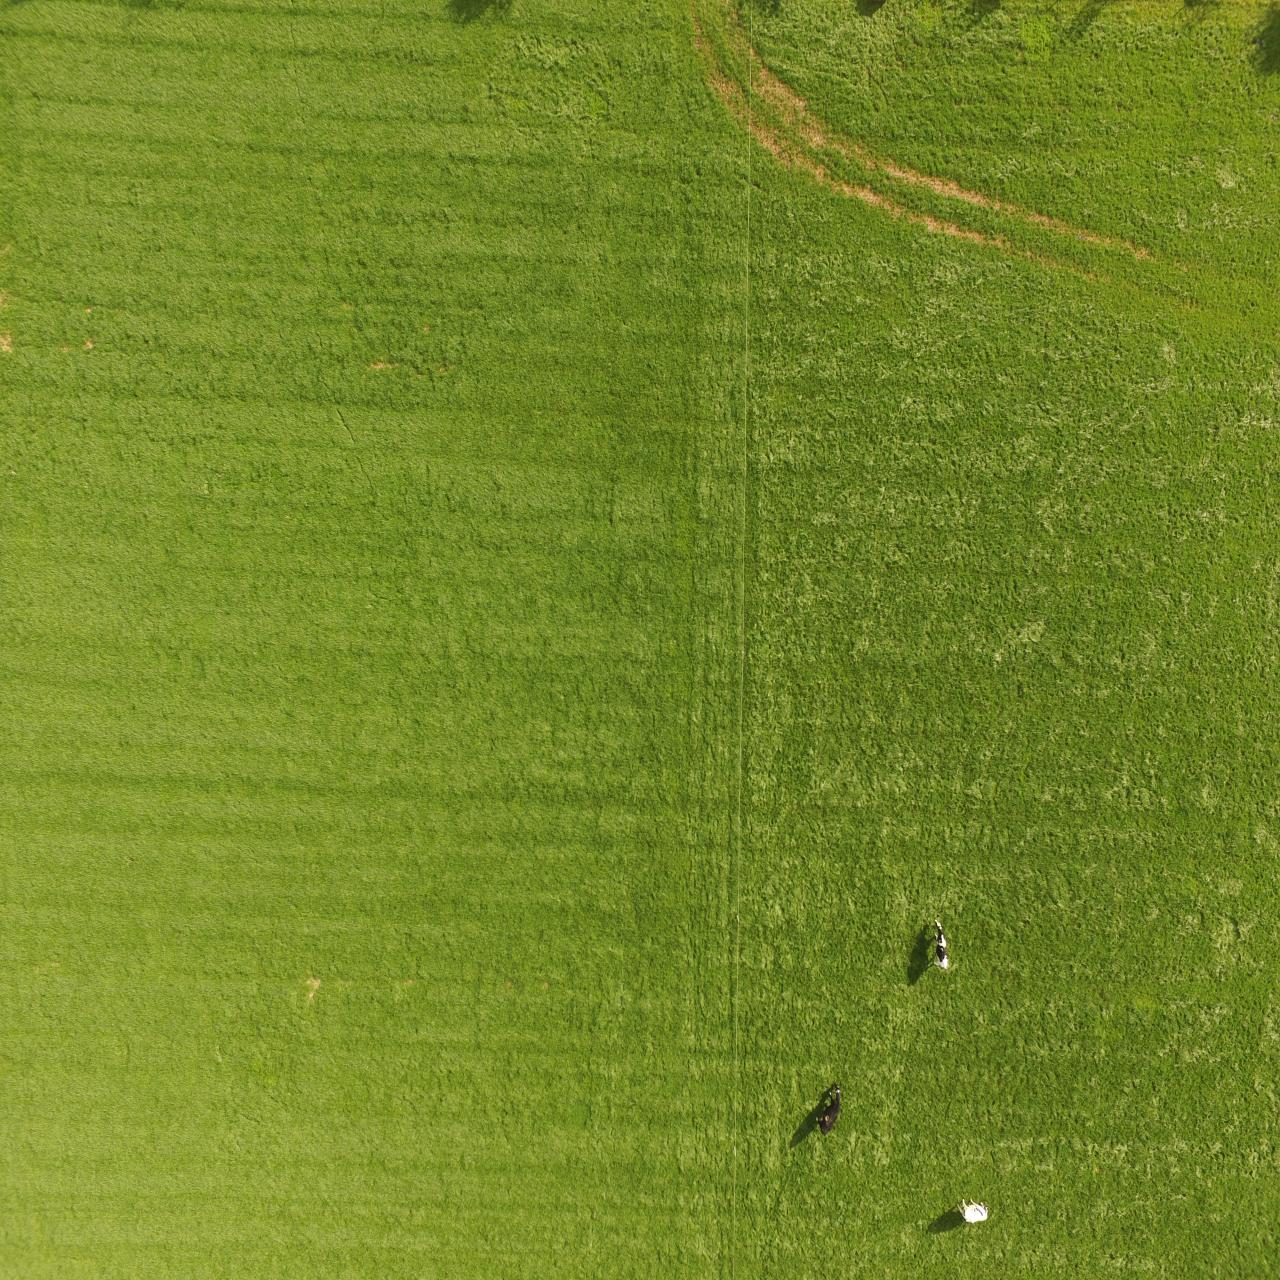cow: (815, 1077, 842, 1138), (955, 1196, 990, 1227), (932, 914, 949, 972)
